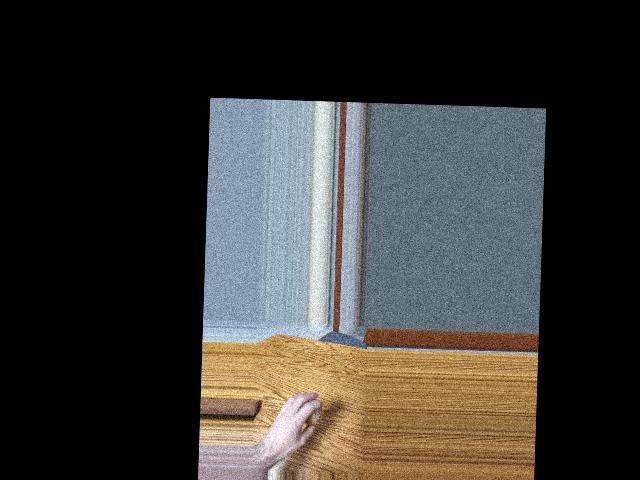onion: (300, 397, 321, 425)
